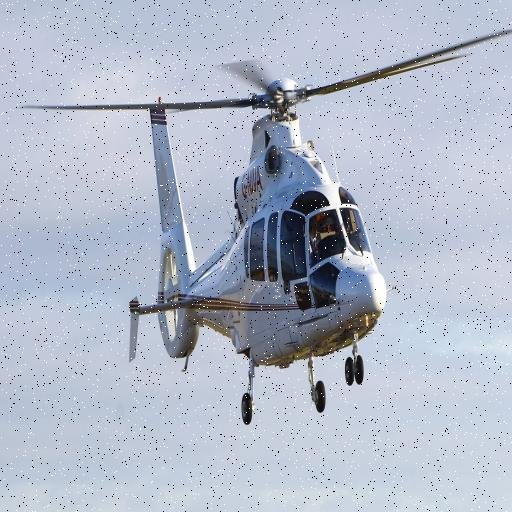helicopter: (69, 56, 413, 440)
